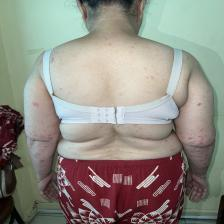Psoriasis vulgaris: (92, 32, 119, 49), (140, 66, 159, 87), (117, 91, 127, 99)
